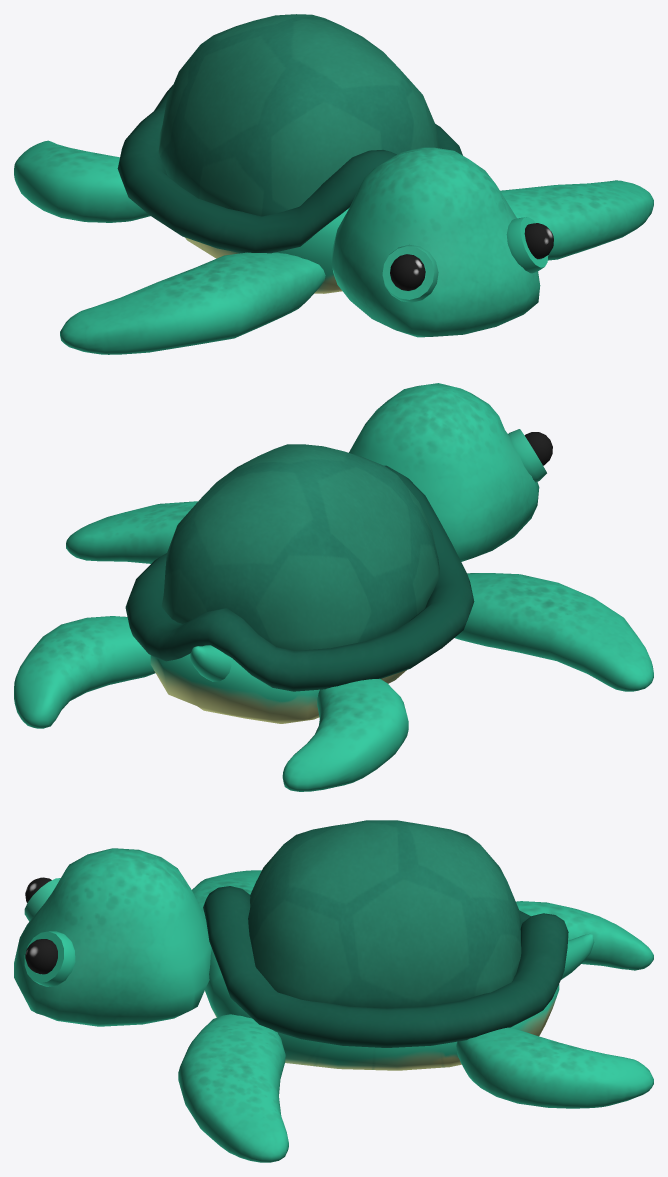
Rendered from Turtle_No_Anim.FBX.
3 views of the same model, one above another, from view 1: azimuth 30°, elevation 25°; view 2: azimuth 150°, elevation 25°; view 3: azimuth 270°, elevation 25° (orthographic). The views are drawn at different scales.
Visible parts, largest first — view 1: Turtle Shell, Leg_04, Leg_03, Leg_02; view 2: Turtle Shell, Leg_04, Leg_01, Leg_02, Leg_03; view 3: Turtle Shell, Leg_03, Leg_01, Leg_02, Leg_04.
Part boxes in pixels (<box>): Turtle Shell: <box>117,14,553,337</box>; Leg_04: <box>60,252,325,354</box>; Leg_03: <box>500,180,653,260</box>; Leg_02: <box>14,140,150,222</box>; Turtle Shell: <box>125,383,552,723</box>; Leg_04: <box>455,573,653,691</box>; Leg_01: <box>14,616,155,728</box>; Leg_02: <box>282,678,408,791</box>; Leg_03: <box>66,501,197,563</box>; Turtle Shell: <box>14,820,594,1070</box>; Leg_03: <box>178,1014,288,1162</box>; Leg_01: <box>456,1027,653,1108</box>; Leg_02: <box>516,901,653,970</box>; Leg_04: <box>192,870,261,918</box>.
Size of the model in its own units: 2493 by 874 by 2412.
